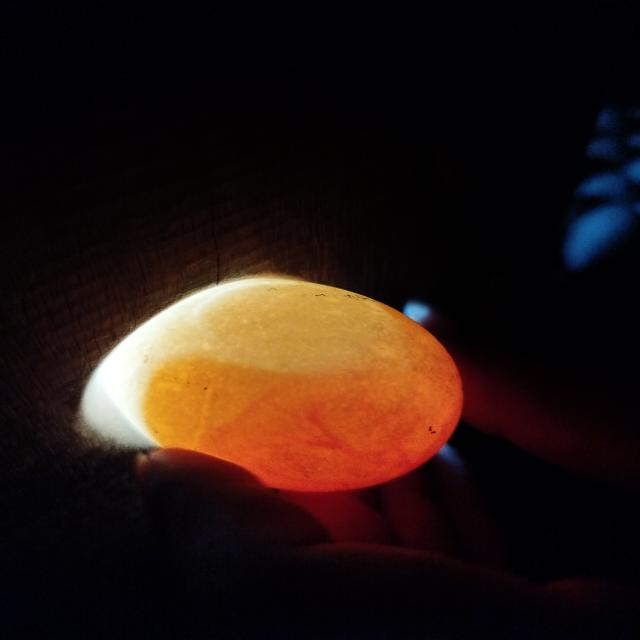Gema Quebrada: (142, 302, 462, 491)
